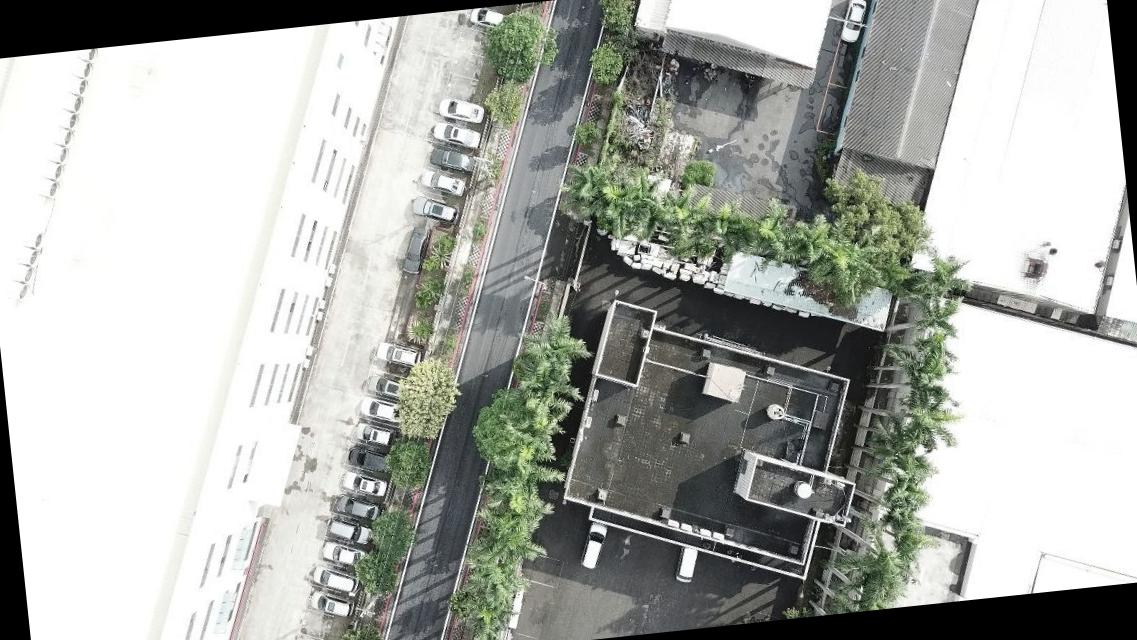vehicle: (431, 117, 480, 155), (407, 192, 459, 227), (420, 166, 470, 202), (320, 535, 368, 572), (312, 561, 360, 598), (398, 226, 434, 275), (325, 512, 374, 548), (576, 518, 611, 568), (333, 490, 381, 526), (358, 391, 406, 426), (428, 143, 476, 178), (374, 338, 422, 372), (837, 0, 873, 45), (309, 587, 356, 621), (437, 94, 486, 125), (354, 417, 398, 451), (342, 468, 388, 500), (346, 444, 391, 476), (468, 5, 512, 36), (368, 370, 409, 401), (672, 542, 701, 584)
